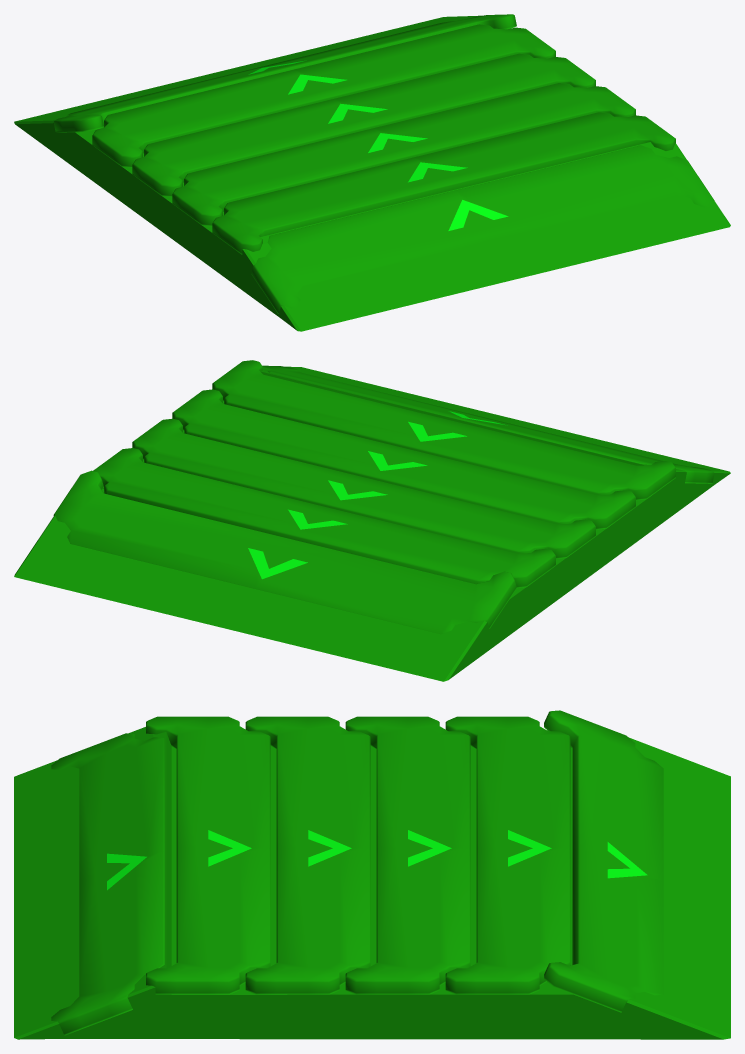
The model's file is speed-pad.glb.
3 renders of one model, top to bottom at view 1: azimuth 30°, elevation 25°; view 2: azimuth 150°, elevation 25°; view 3: azimuth 270°, elevation 25°, orthographic. The views are drawn at different scales.
Parts seen in each view (by area): view 1: Speed Pad; view 2: Speed Pad; view 3: Speed Pad.
Part boxes in pixels (x1,y1,x2,y2): Speed Pad: [14, 14, 730, 331]; Speed Pad: [14, 360, 730, 681]; Speed Pad: [14, 710, 730, 1039].
Size of the model in its own units: 2.02 by 0.245 by 2.32.
